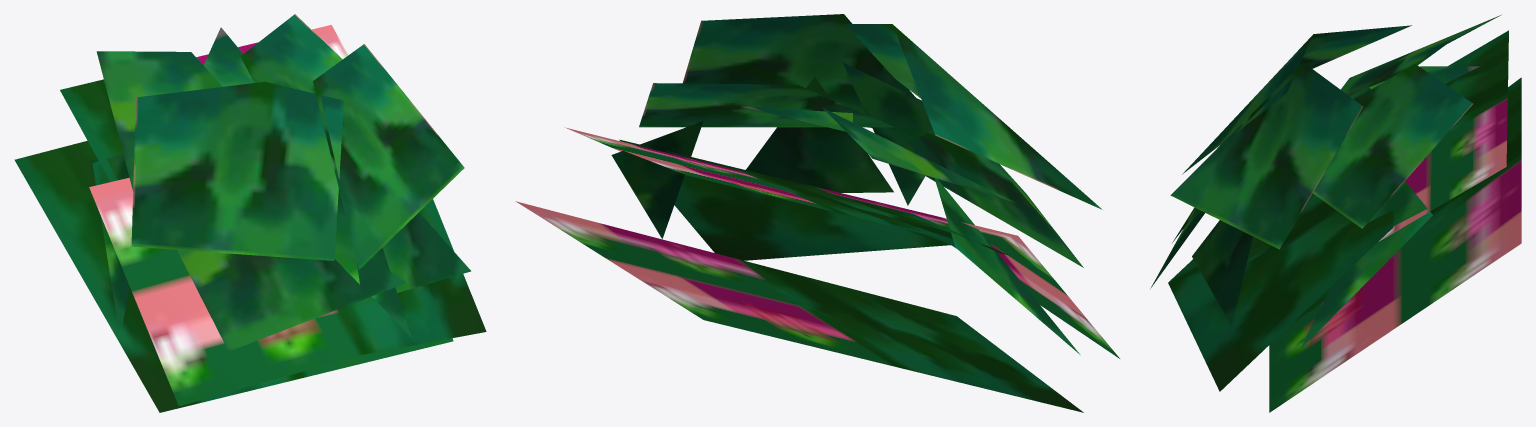
The model's file is fg_bushA_2.dae.
3 views of the same model, side by side, from view 1: azimuth 30°, elevation 25°; view 2: azimuth 150°, elevation 25°; view 3: azimuth 270°, elevation 25° (orthographic). The views are drawn at different scales.
Visible parts, largest first — view 1: fg_bushA_2; view 2: fg_bushA_2; view 3: fg_bushA_2.
Part boxes in pixels (x1,y1,x2,y2): fg_bushA_2: (14,14,486,412); fg_bushA_2: (515,14,1119,412); fg_bushA_2: (1150,15,1521,412).
Size of the model in its own units: 42.31 by 33.77 by 38.68.
Materials: 1 (1 with a texture image).
